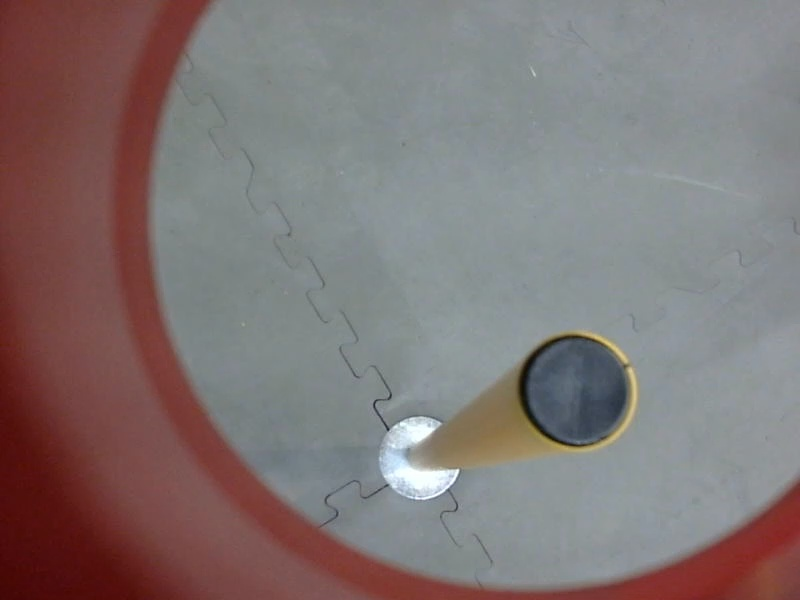tip: (512, 324, 646, 465)
